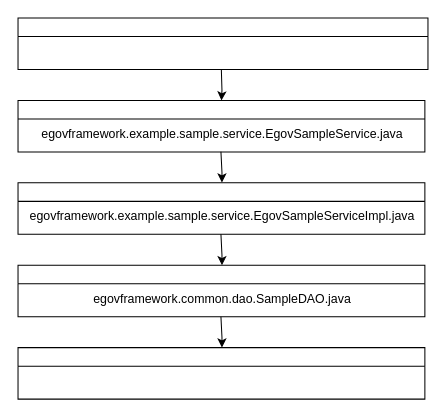
Image size: 446x417. Some labels were removed from this diagram. The shapes that lost their labels are listed below. From the top down, each one's centre as x and y in pixels, then its label:
At [222,43]: "egovframework.example.sample.controller.EgovSampleController.java".
At [221,373]: "/sqlmap/example/sample/EgovSample_Sample_SQL.xml".
